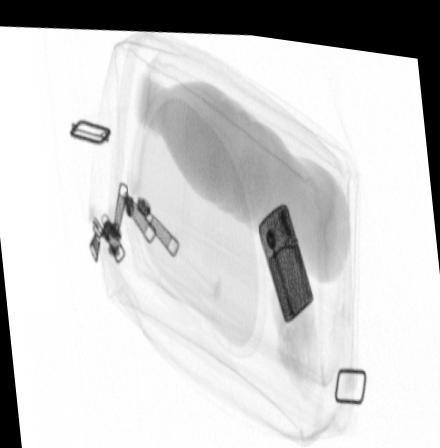Lighter: (257, 195, 313, 313)
